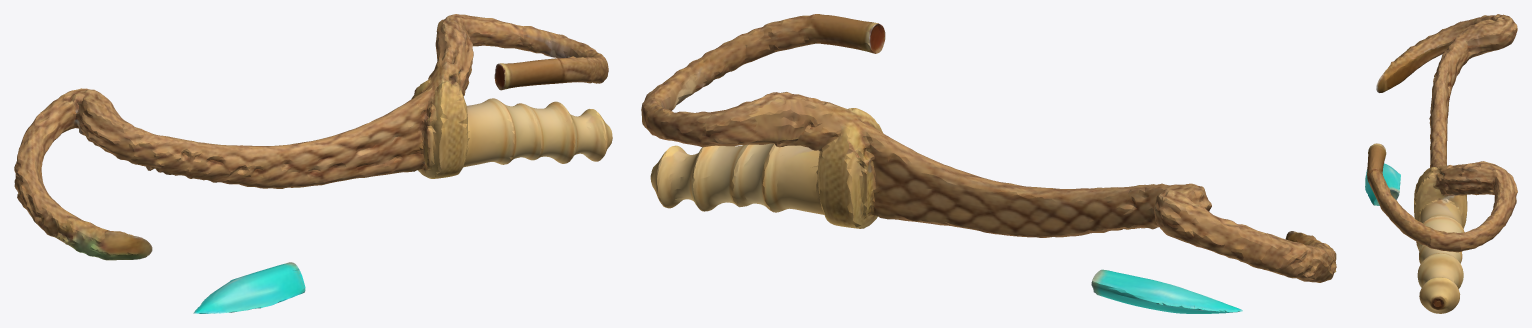
File: whip.glb
3 views of the same model, side by side, from view 1: azimuth 30°, elevation 25°; view 2: azimuth 150°, elevation 25°; view 3: azimuth 270°, elevation 25° (orthographic). The views are drawn at different scales.
Parts seen in each view (by area): view 1: whip; view 2: whip; view 3: whip.
Part boxes in pixels (x1,y1,x2,y2): whip: [14, 14, 612, 313]; whip: [641, 14, 1336, 313]; whip: [1365, 14, 1517, 313].
Bounding box in the file's own units: 1.89 × 0.5631 × 0.5643.
1 material, 1 textured.
